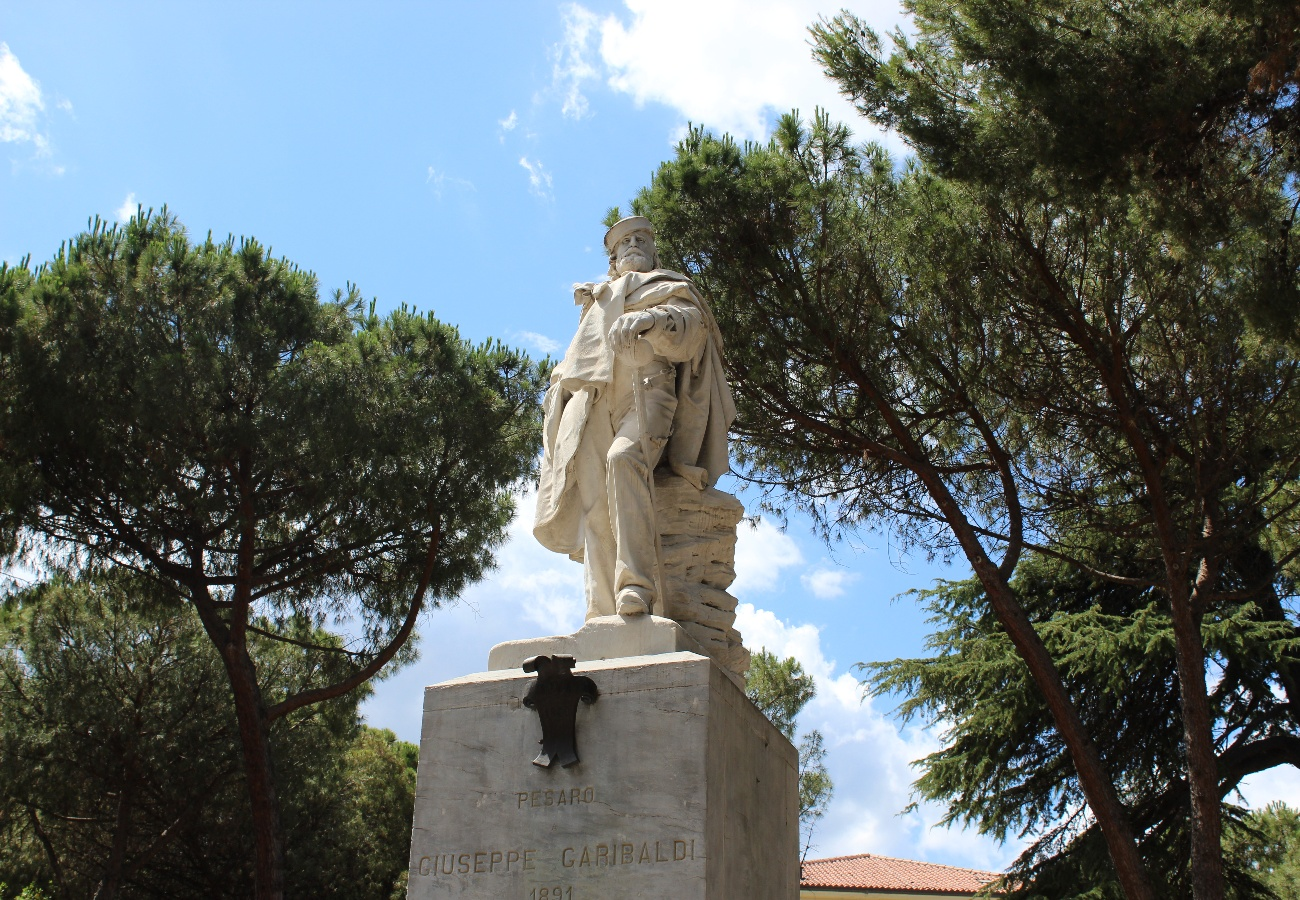Giuseppe Garibaldi: (531, 216, 741, 618)
